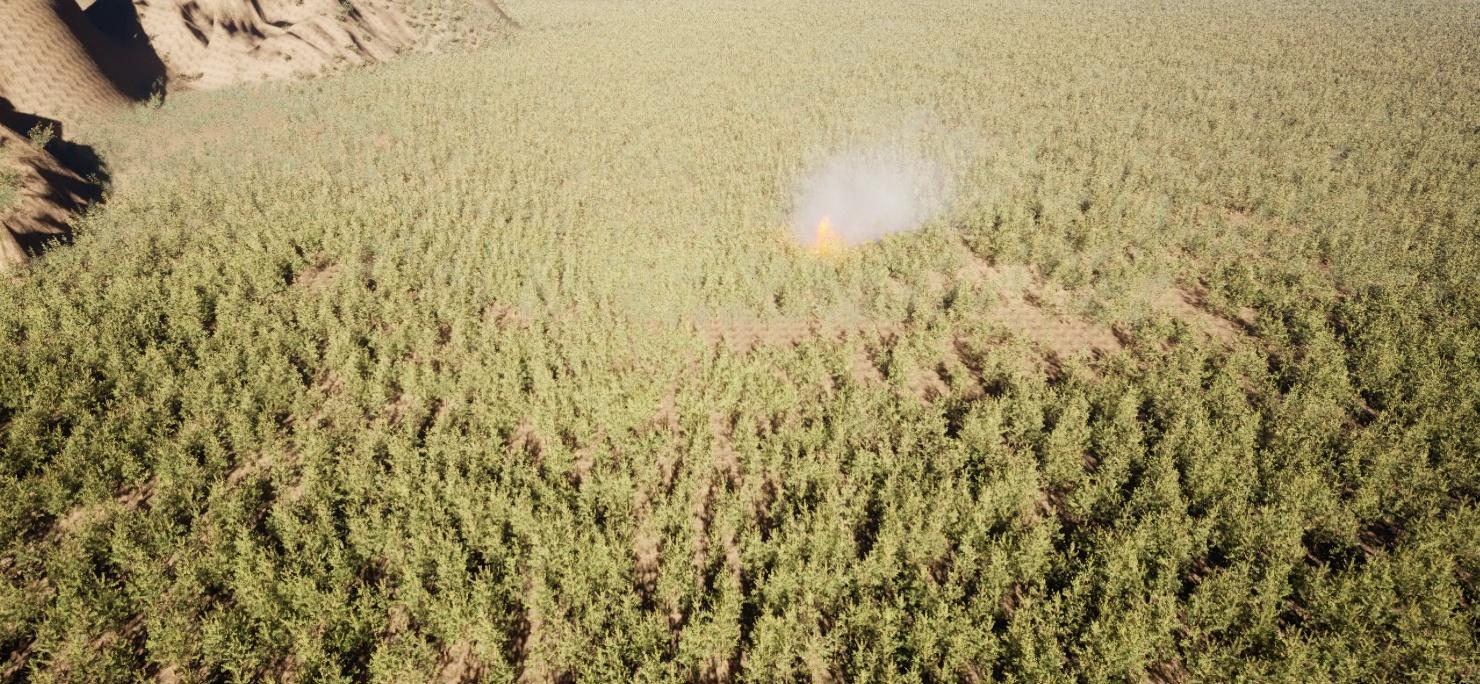fire: (812, 212, 847, 252)
smoke: (790, 117, 965, 247)
